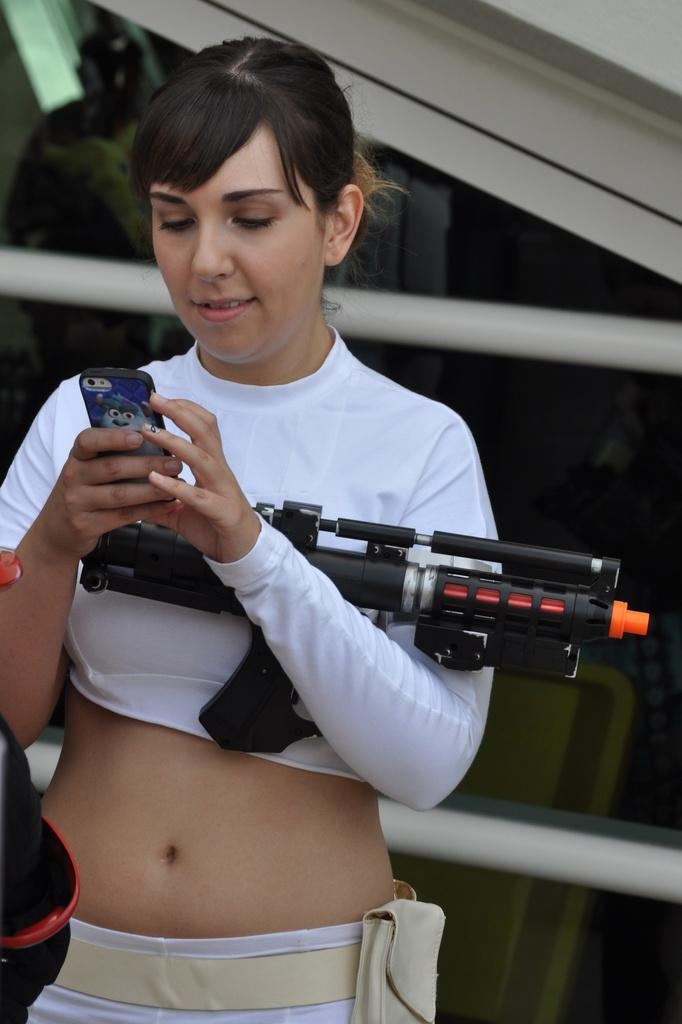Rifle: (72, 496, 653, 753)
